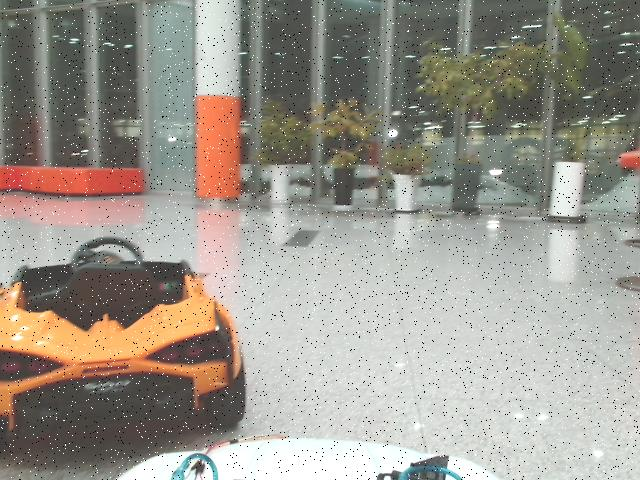car: (1, 237, 245, 464)
